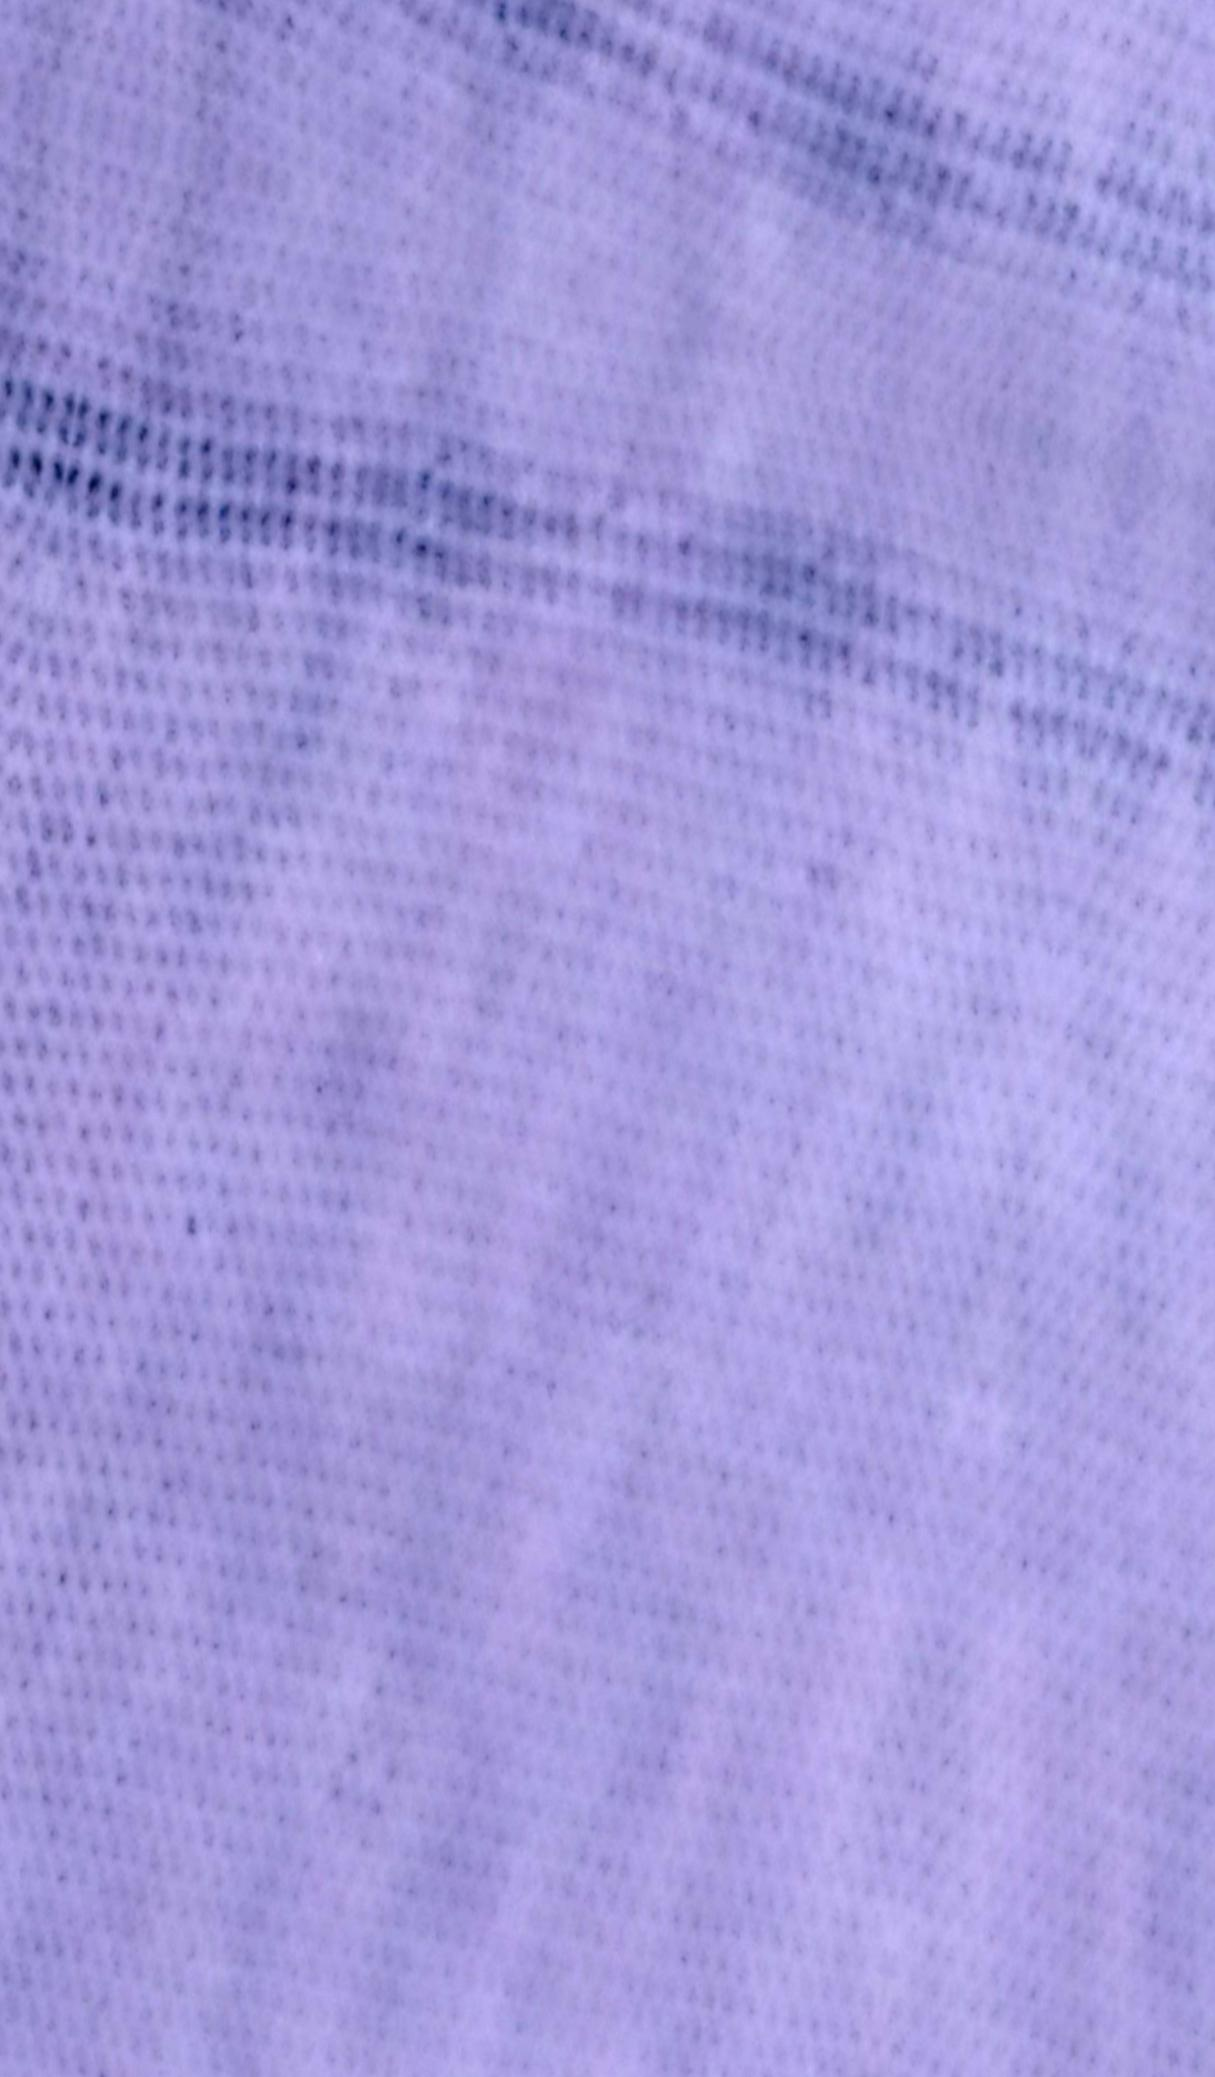slub: (0, 327, 1201, 830), (444, 1, 1208, 307)
